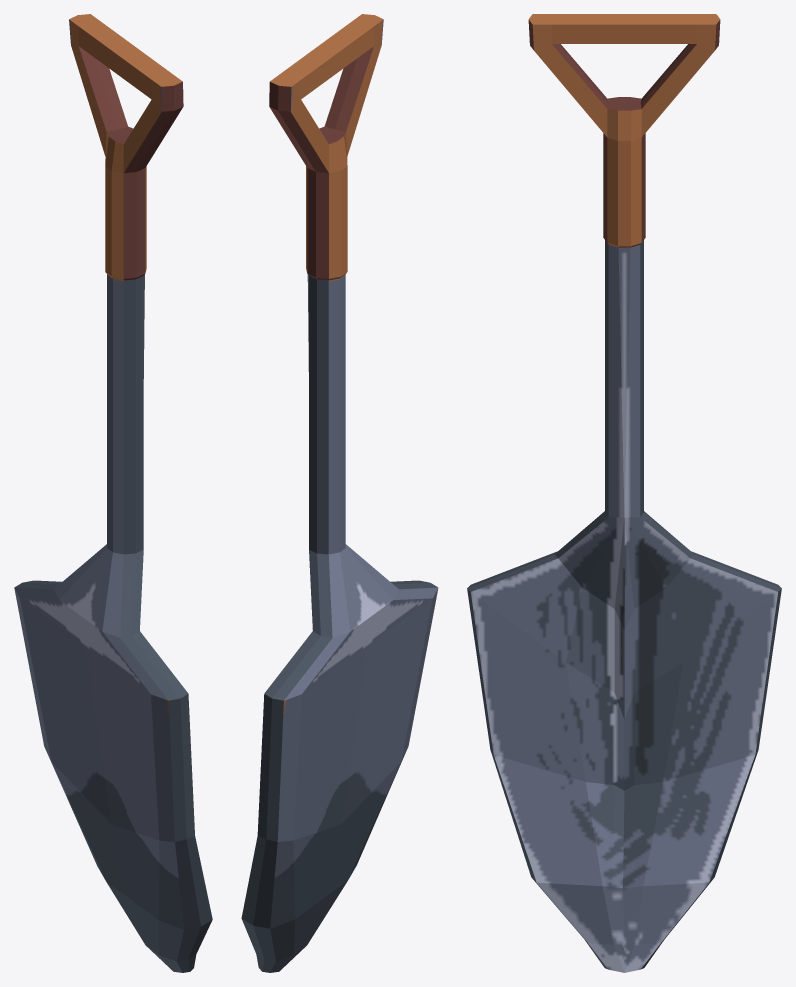
File: shovel.fbx
The picture shows the model from 3 angles, left to right: view 1: azimuth 30°, elevation 25°; view 2: azimuth 150°, elevation 25°; view 3: azimuth 270°, elevation 25°; orthographic projection.
Parts seen in each view (by area): view 1: shovel; view 2: shovel; view 3: shovel.
Boxes of the visible parts, box(x1,y1,x2,y2) form: shovel: box(14, 14, 212, 972); shovel: box(241, 14, 438, 972); shovel: box(467, 14, 781, 972).
Size of the model in its own units: 8.93 by 75.29 by 23.15.
